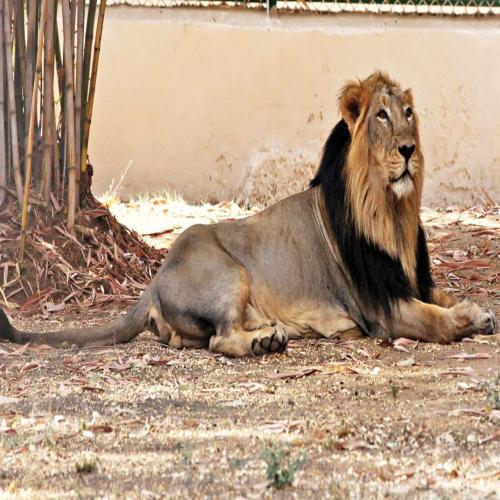lion-endangered: (6, 76, 493, 364)
